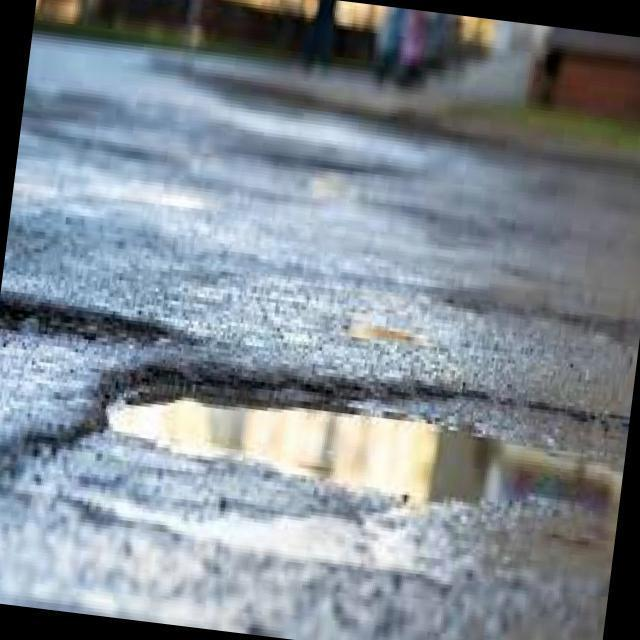Pothole: (1, 329, 620, 564), (1, 290, 174, 358)
